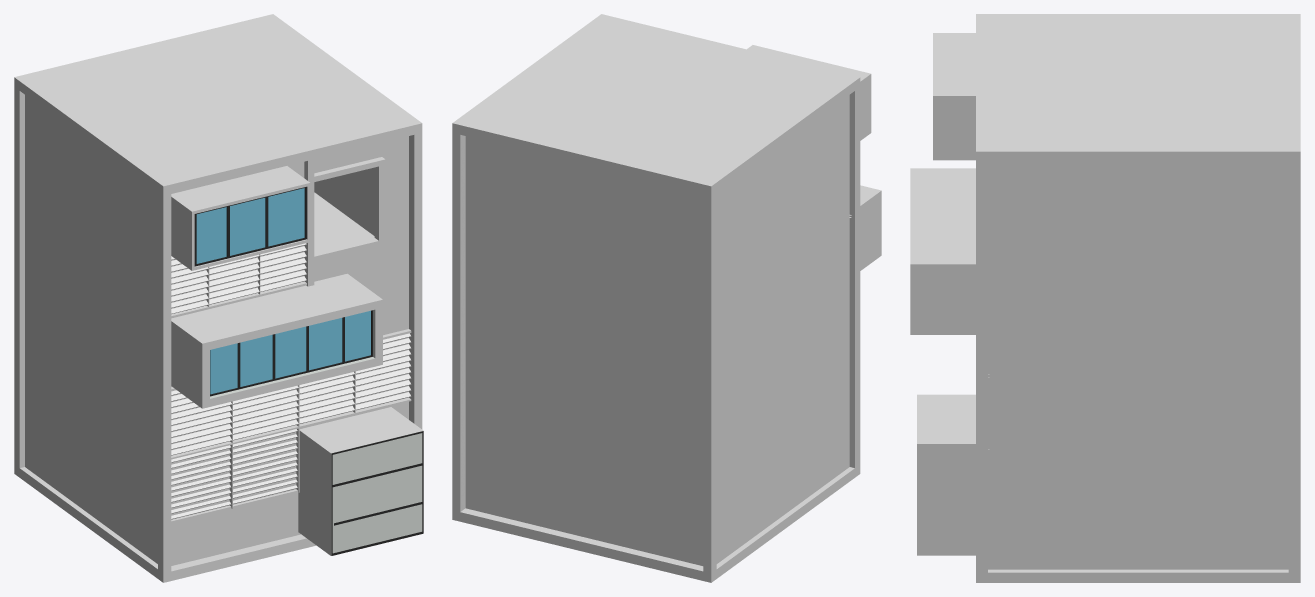
File: Bloc_22F.fbx
The picture shows the model from 3 angles, left to right: view 1: azimuth 30°, elevation 25°; view 2: azimuth 150°, elevation 25°; view 3: azimuth 270°, elevation 25°; orthographic projection. The views are drawn at different scales.
Visible parts, largest first — view 1: Bloc_22F; view 2: Bloc_22F; view 3: Bloc_22F.
Boxes of the visible parts, x1,y1,x2,y2 form: Bloc_22F: [14, 14, 423, 582]; Bloc_22F: [452, 14, 881, 582]; Bloc_22F: [910, 14, 1300, 582].
Bounding box in the file's own units: 749 × 914 × 625.
